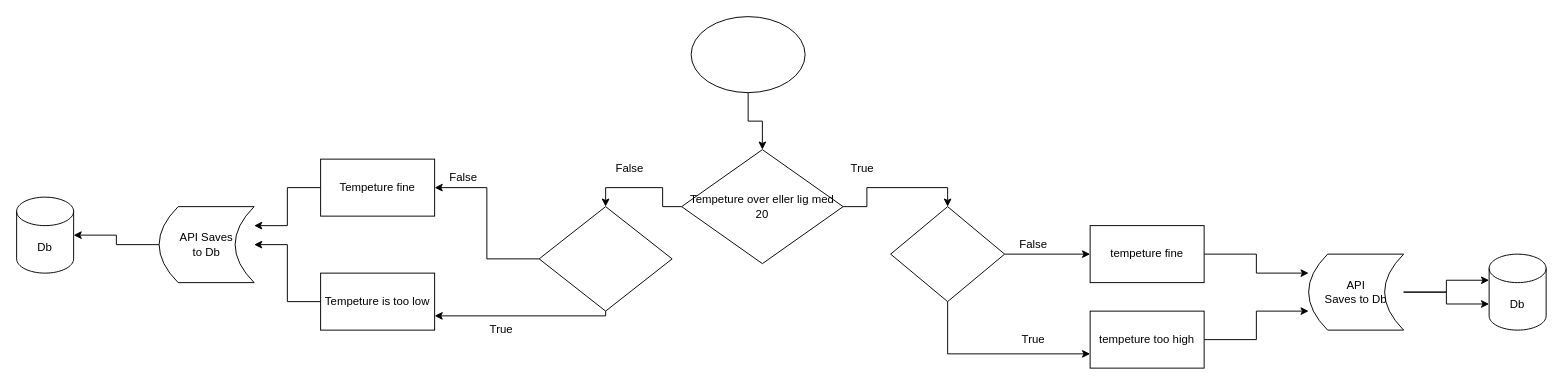
Image size: 1563x385. Some labels were removed from this diagram. Each missing label, with the box of its shape:
If tempeture < 16: (538, 206, 672, 311)
if tempeture > 25: (890, 206, 1005, 302)
Start: (690, 16, 805, 93)
